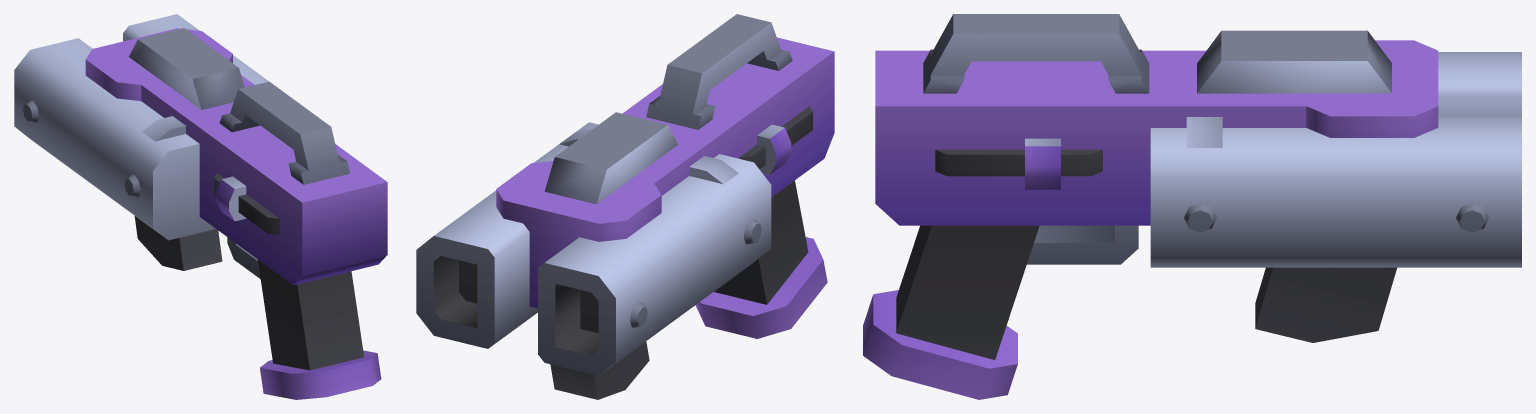
The model's file is blaster-l.glb.
3 views of the same model, side by side, from view 1: azimuth 30°, elevation 25°; view 2: azimuth 150°, elevation 25°; view 3: azimuth 270°, elevation 25° (orthographic). The views are drawn at different scales.
Parts seen in each view (by area): view 1: blaster-l; view 2: blaster-l; view 3: blaster-l.
Part boxes in pixels (left/top/right/bottom): blaster-l: left=14, top=14, right=387, bottom=399; blaster-l: left=416, top=14, right=834, bottom=399; blaster-l: left=863, top=14, right=1521, bottom=399.
Bounding box in the file's own units: 0.2438 × 0.3279 × 0.5504.
Materials: 1 (1 with a texture image).
